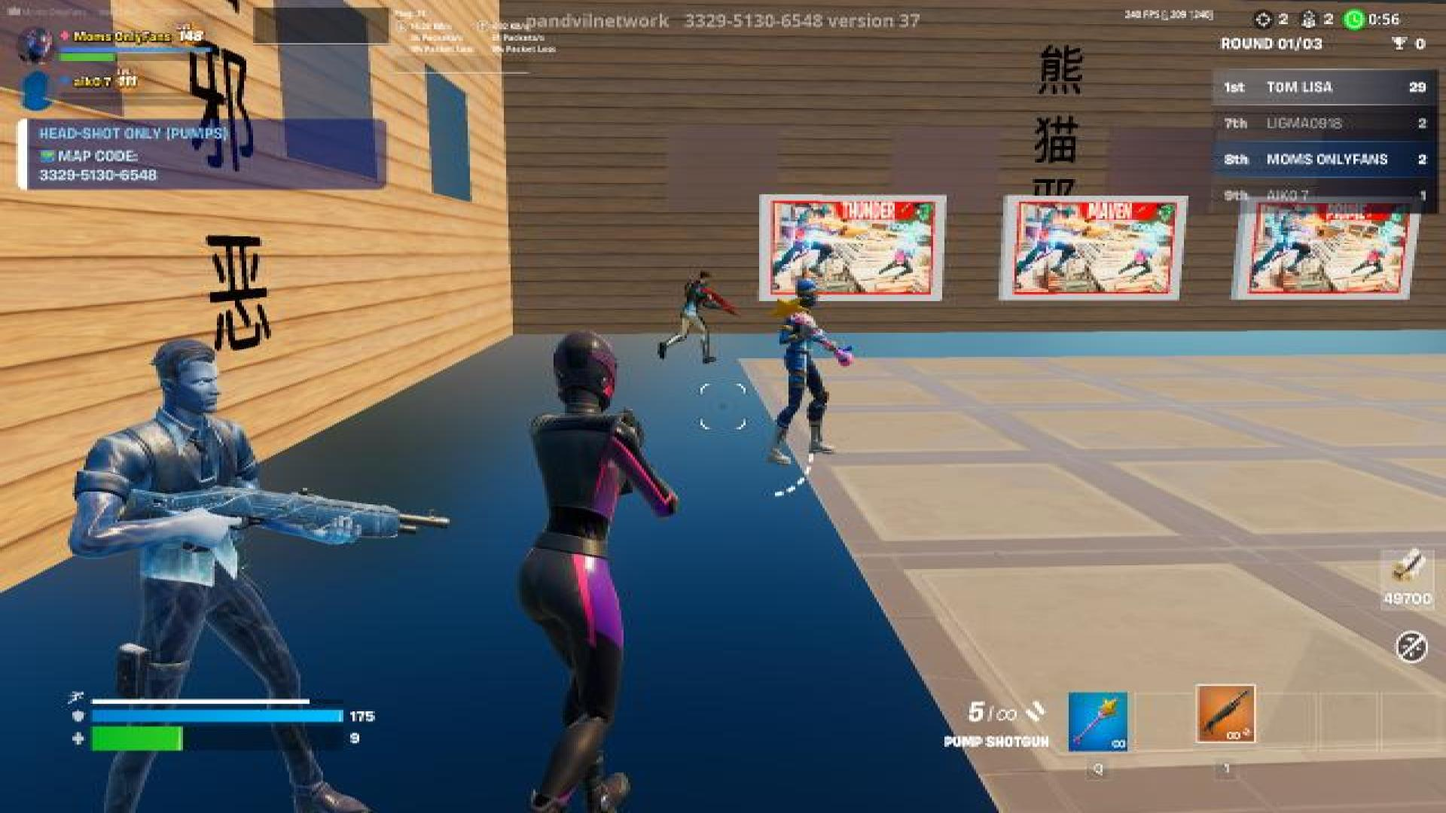player: (94, 349, 387, 802), (761, 275, 859, 479), (676, 260, 730, 370)
